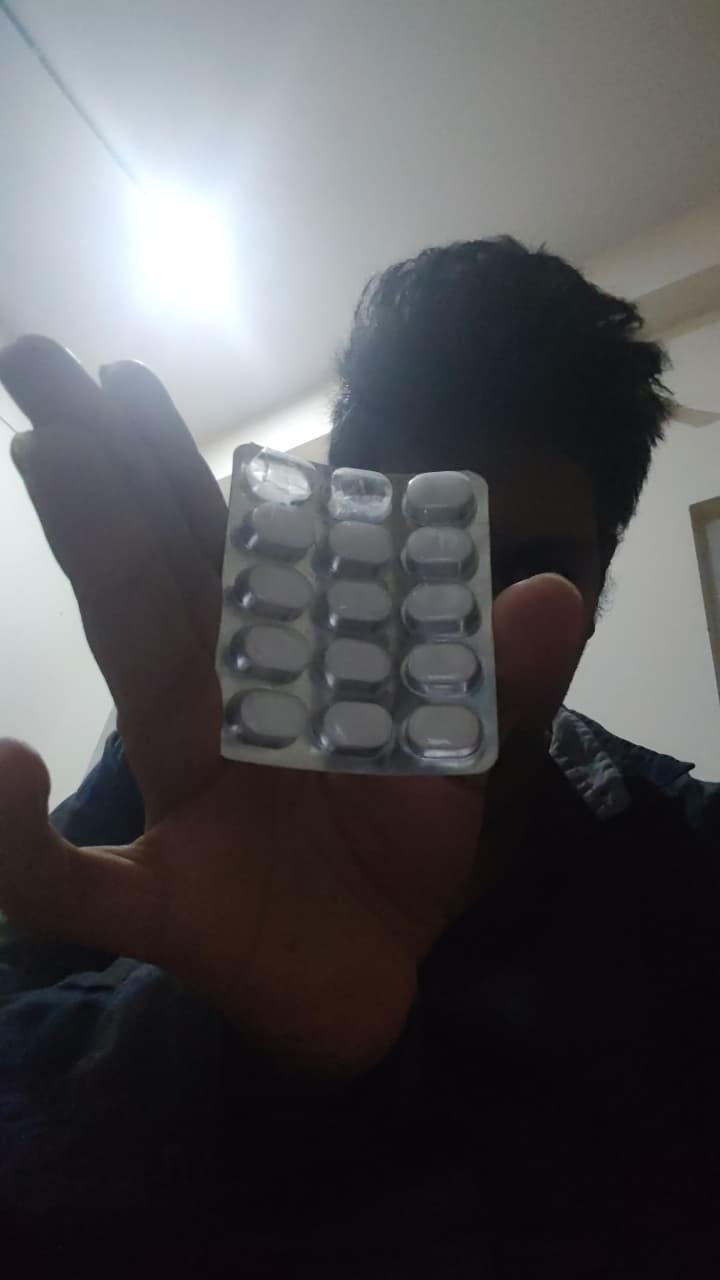MedicineStrip: (220, 451, 500, 771)
